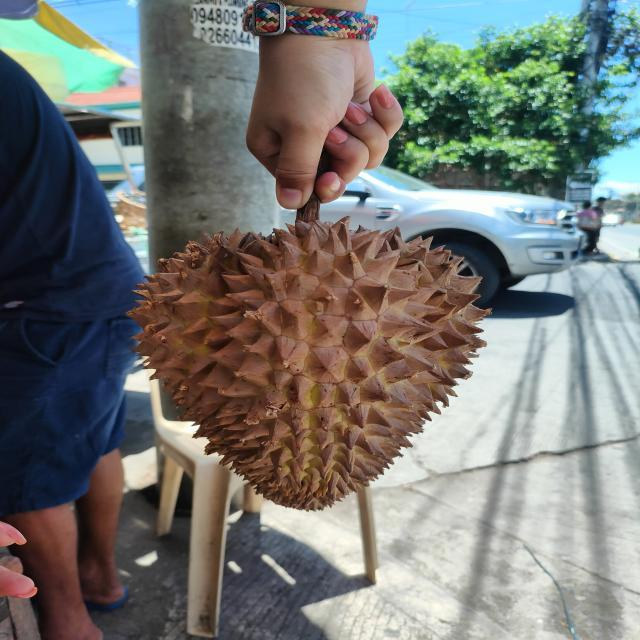mature: (126, 213, 493, 513)
